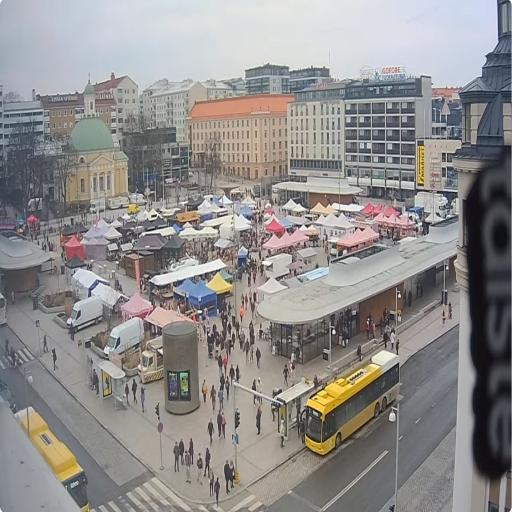bus: (305, 351, 400, 455), (15, 407, 89, 511), (0, 294, 6, 325)
delivery: (104, 318, 143, 358), (67, 297, 103, 334), (139, 337, 163, 383)
